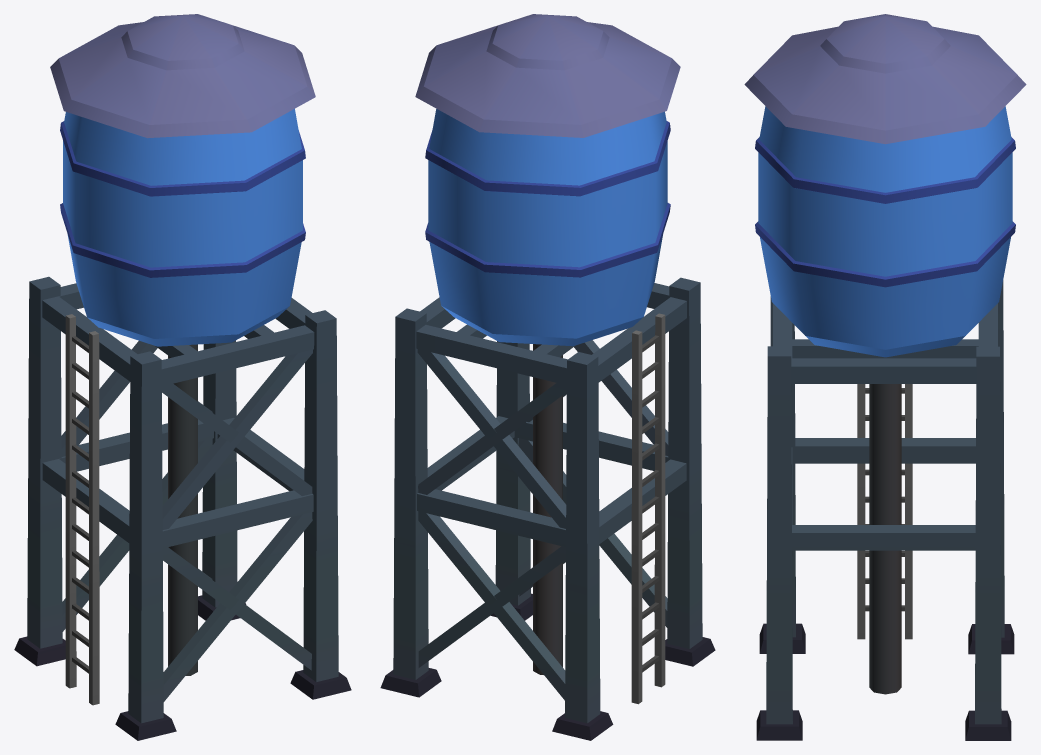
The model's file is WaterTank_2_A.fbx.
3 views of the same model, side by side, from view 1: azimuth 30°, elevation 25°; view 2: azimuth 150°, elevation 25°; view 3: azimuth 270°, elevation 25° (orthographic). The views are drawn at different scales.
Visible parts, largest first — view 1: WaterTank_2_A; view 2: WaterTank_2_A; view 3: WaterTank_2_A.
Part boxes in pixels (x1,y1,x2,y2): WaterTank_2_A: (14,14,351,740); WaterTank_2_A: (380,14,715,740); WaterTank_2_A: (744,14,1026,740).
Size of the model in its own units: 119 by 312 by 119.
